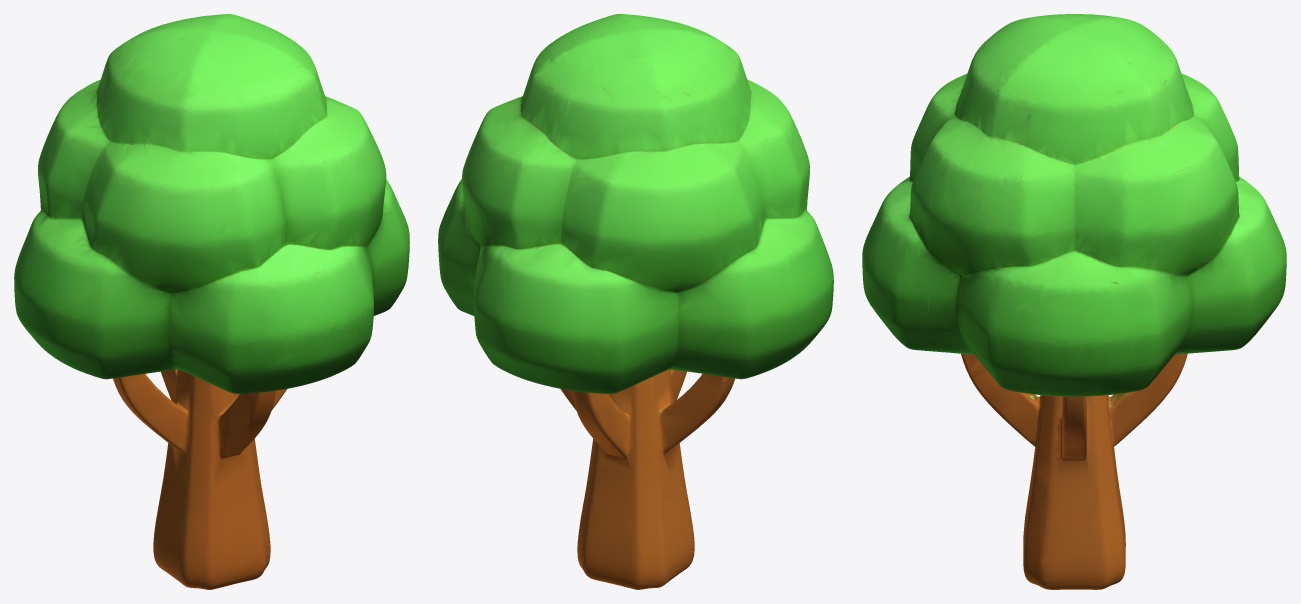
File: e755b0f3-fe13-4d0b-ada5-c219faa7866f.glb
3 renders of one model, left to right at view 1: azimuth 30°, elevation 25°; view 2: azimuth 150°, elevation 25°; view 3: azimuth 270°, elevation 25°, orthographic.
Visible parts, largest first — view 1: Mesh_0; view 2: Mesh_0; view 3: Mesh_0.
Part boxes in pixels (x1,y1,x2,y2): Mesh_0: [14, 14, 409, 589]; Mesh_0: [438, 14, 833, 589]; Mesh_0: [862, 14, 1286, 589].
Size of the model in its own units: 1.34 by 1.9 by 1.34.
Materials: 1 (1 with a texture image).
